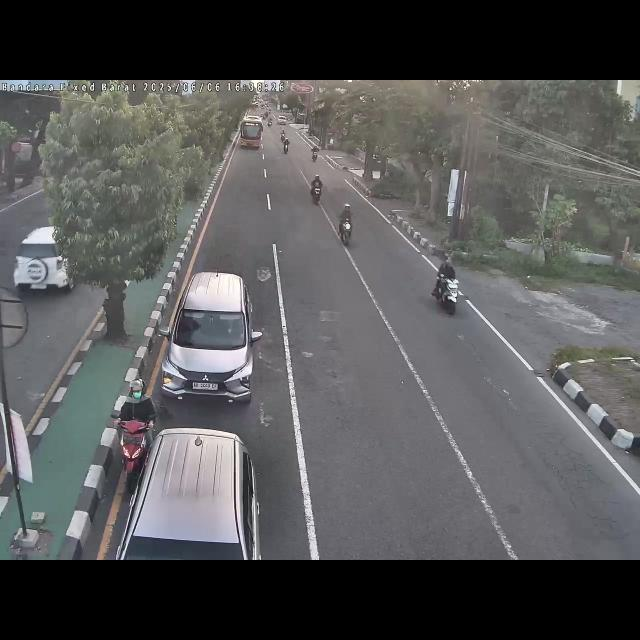Mobil: (154, 271, 262, 415)
Motor: (112, 422, 266, 560), (111, 374, 159, 492), (432, 252, 464, 320), (339, 198, 357, 250), (308, 172, 326, 206)
